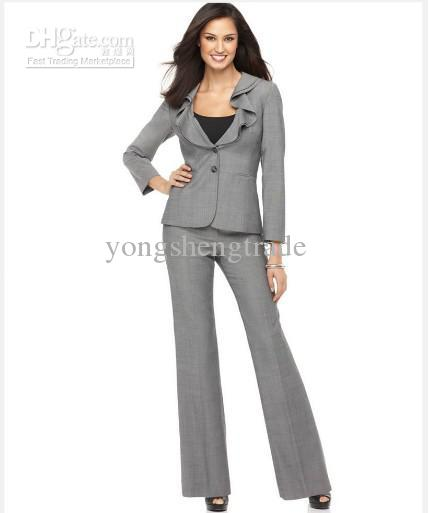feet: (168, 431, 343, 512)
